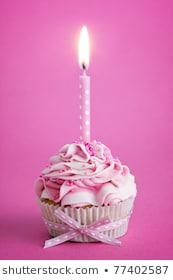fire: (75, 23, 92, 67)
